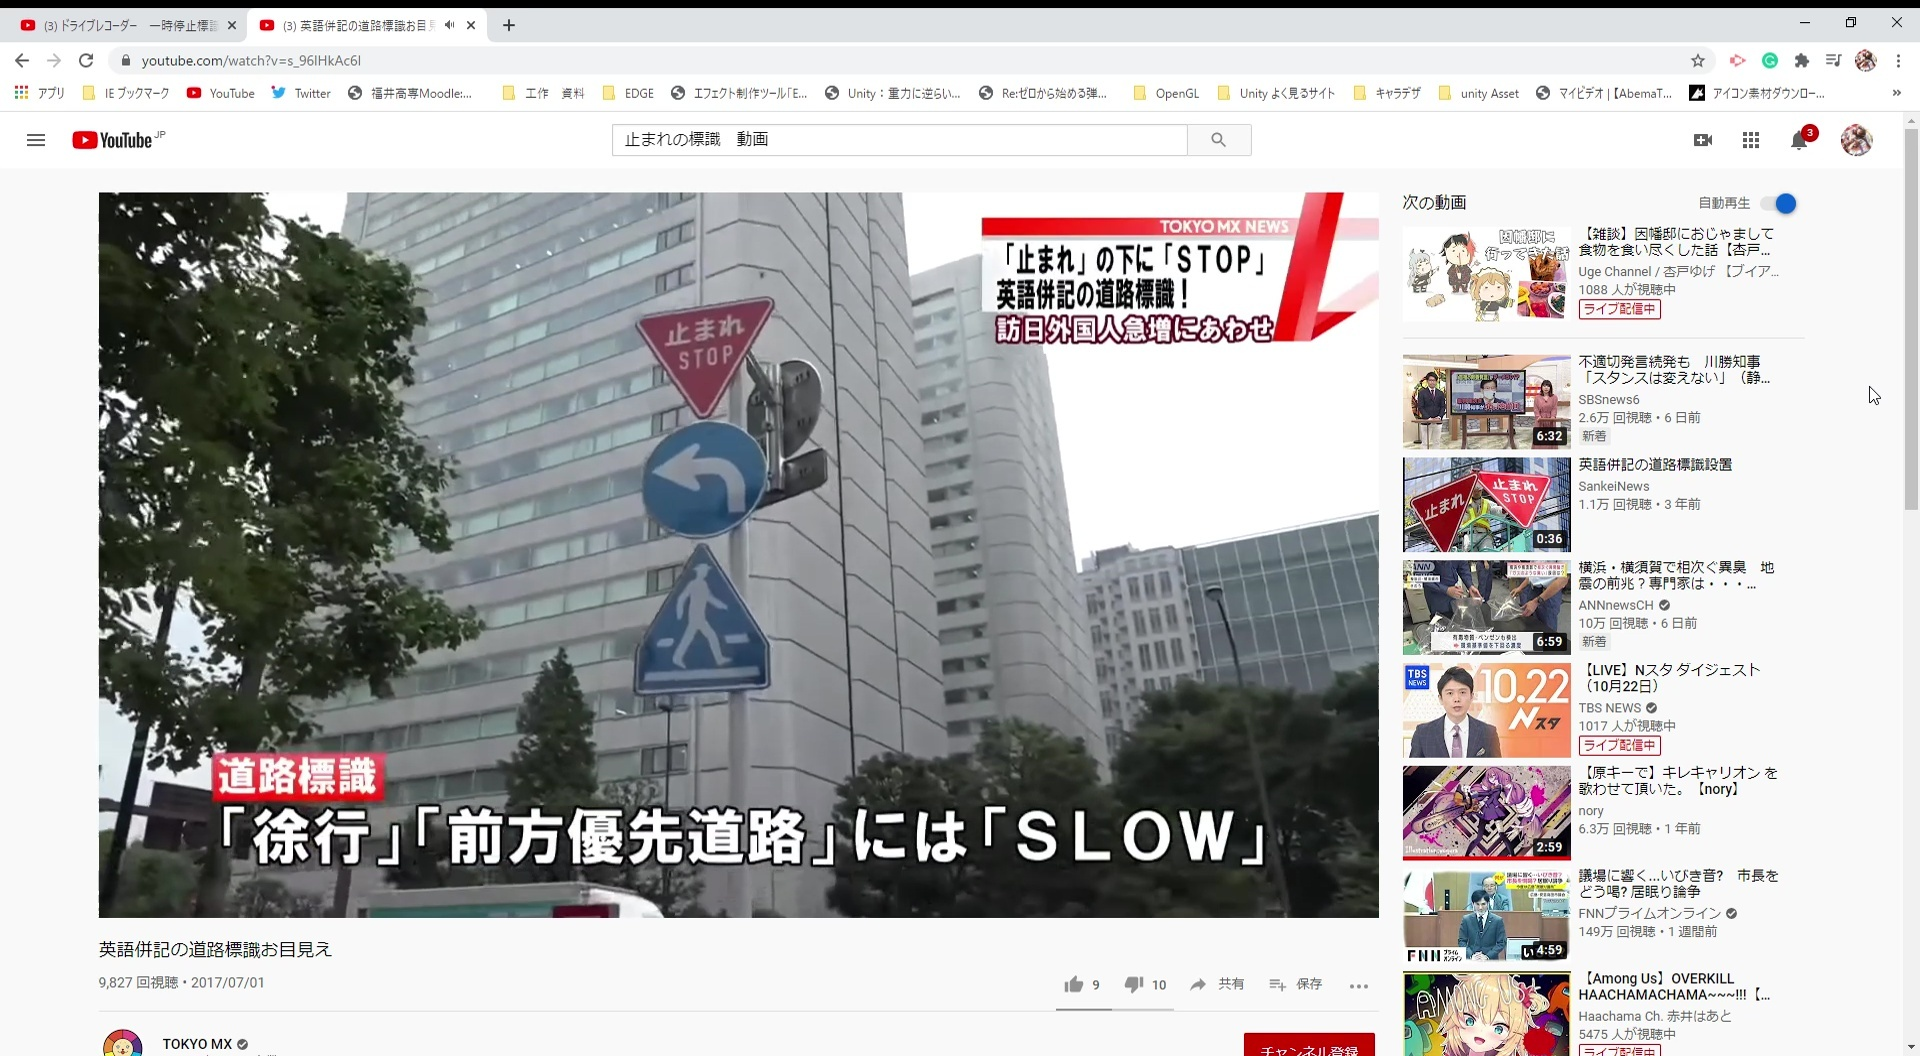Regulatory_sign_triangle: (627, 297, 786, 417)
